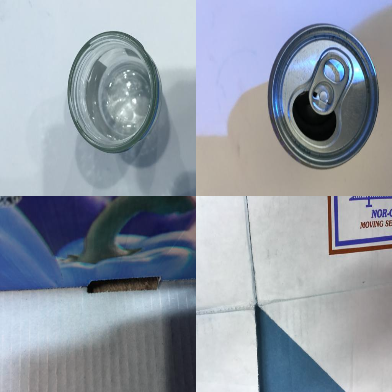cardboard: (196, 196, 391, 391), (1, 196, 194, 391)
glass: (66, 30, 161, 153)
metal: (268, 24, 379, 170)
